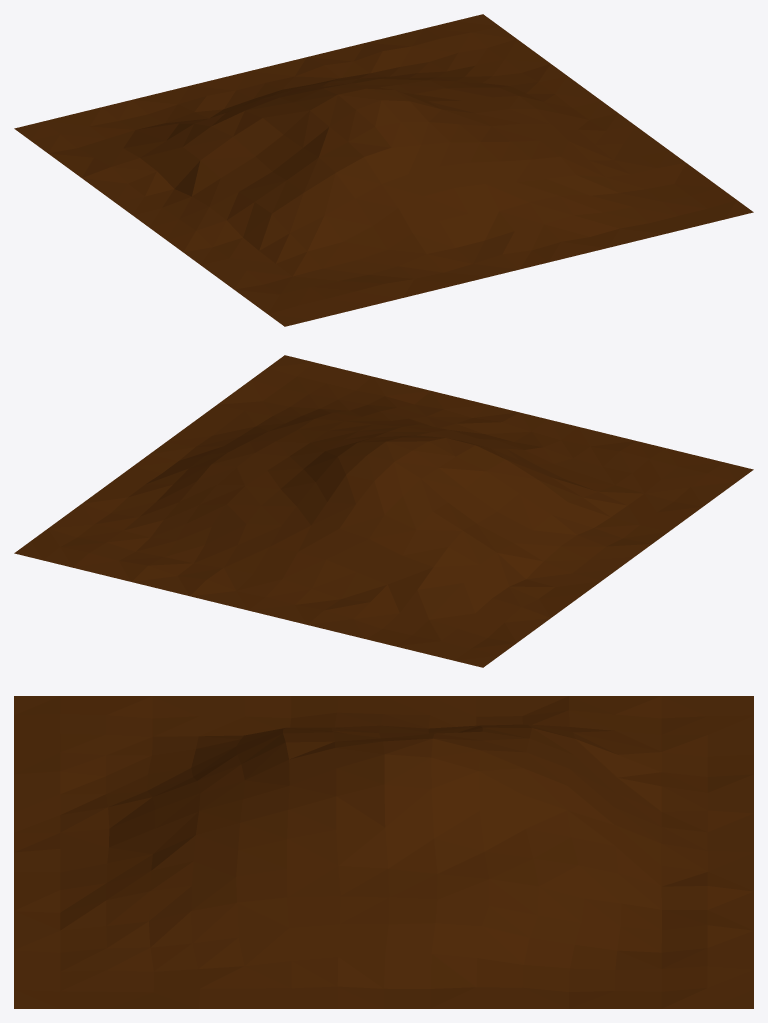
Rendered from terrain 1.FBX.
The picture shows the model from 3 angles, top to bottom: view 1: azimuth 30°, elevation 25°; view 2: azimuth 150°, elevation 25°; view 3: azimuth 270°, elevation 25°; orthographic projection. The views are drawn at different scales.
Parts seen in each view (by area): view 1: Terrain_02; view 2: Terrain_02; view 3: Terrain_02.
Part boxes in pixels (x1,y1,x2,y2): Terrain_02: (14,14,753,326); Terrain_02: (14,355,753,667); Terrain_02: (14,696,753,1008).
Size of the model in its own units: 591 by 87.62 by 591.
